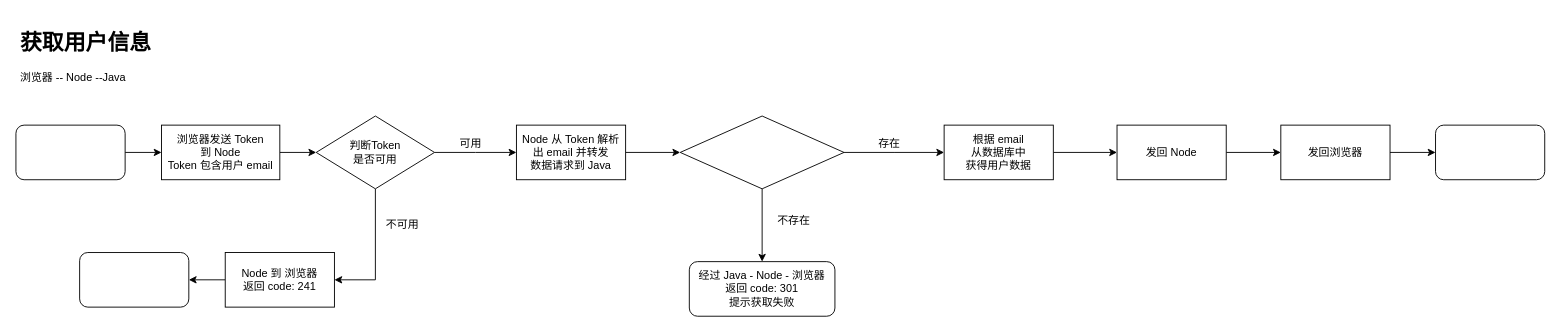
Image size: 1561x332. Some labels were removed from this diagram. The shapes that lost their labels are listed below. From the top down, each one's centre as x and y in pixels, then its label:
At point 70,152: "进入用户页".
At point 761,152: "用户是否存在 之类的判断".
At point 1490,152: "返回 code: 300 获取用户信息成功 在页面中填入数据".
At point 134,279: "清除浏览器中的 Token 跳转到游客页".
